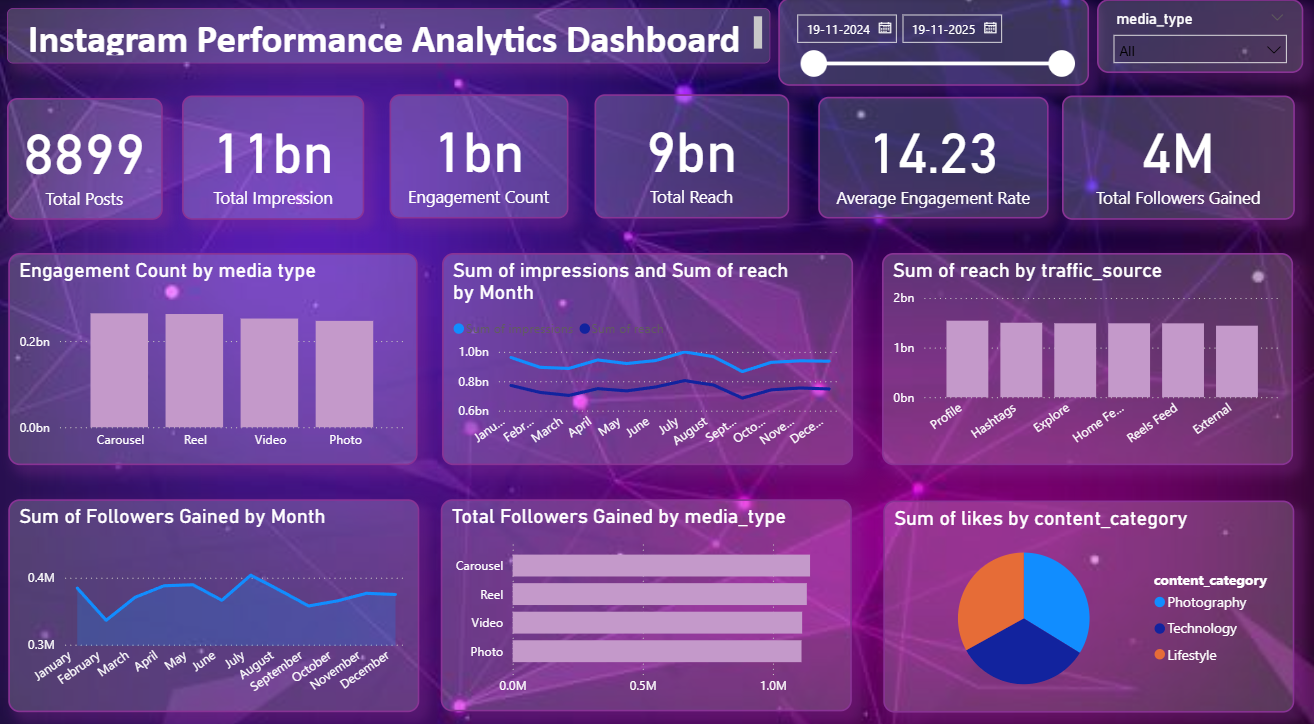

This screenshot's page, from the dashboard's own definition file:
{"tool":"powerbi","page":{"name":"Dashboard","canvas":[1280,720],"ordinal":0},"visuals":[{"type":"textbox","box":[9.6,9.6,736.9,53.5],"z":0},{"type":"card","fields":{"Values":["Instagram_Analytics.Total Posts"]},"box":[9.5,96.4,150,117.9],"z":1000},{"type":"card","fields":{"Values":["Instagram_Analytics.Total Impression"]},"box":[178.6,94,176.2,120.2],"z":2000},{"type":"card","fields":{"Values":["Instagram_Analytics.Total Reach"]},"box":[576.2,92.9,188.1,120.2],"z":3000},{"type":"card","fields":{"Values":["Instagram_Analytics.Engagement Count"]},"box":[378.6,92.9,172.6,120.2],"z":4000},{"type":"card","fields":{"Values":["Instagram_Analytics.Average Engagement Rate"]},"box":[792.9,95.2,222.6,117.9],"z":5000},{"type":"card","fields":{"Values":["Instagram_Analytics.Total Followers Gained"]},"box":[1027.4,94,225,120.2],"z":6000},{"type":"clusteredColumnChart","title":"Engagement Count by media type","fields":{"Category":["Instagram_Analytics.media_type"],"Y":["Instagram_Analytics.Engagement Count"]},"box":[10.7,246.4,395.2,204.8],"z":7000},{"type":"lineChart","fields":{"Category":["Instagram_Analytics.upload_date.Variation.Date Hierarchy.Month"],"Y":["Sum(Instagram_Analytics.impressions)","Sum(Instagram_Analytics.reach)"]},"box":[429.8,246.4,396.4,204.8],"z":8000},{"type":"columnChart","fields":{"Category":["Instagram_Analytics.traffic_source"],"Y":["Sum(Instagram_Analytics.reach)"]},"box":[854.8,246.4,396.4,204.8],"z":9000},{"type":"areaChart","fields":{"Category":["Instagram_Analytics.upload_date.Variation.Date Hierarchy.Month"],"Y":["Sum(Instagram_Analytics.Followers Gained)"]},"box":[10.7,483.3,396.4,206],"z":10000},{"type":"barChart","fields":{"Category":["Instagram_Analytics.media_type"],"Y":["Instagram_Analytics.Total Followers Gained"]},"box":[428.6,483.3,396.4,204.8],"z":11000},{"type":"pieChart","fields":{"Category":["Instagram_Analytics.content_category"],"Y":["Sum(Instagram_Analytics.likes)"]},"box":[856,484.5,396.4,204.8],"z":12000},{"type":"slicer","fields":{"Values":["Instagram_Analytics.upload_date"]},"box":[753.6,0,300,84.5],"z":14000},{"type":"slicer","fields":{"Values":["Instagram_Analytics.media_type"]},"box":[1061.9,1.2,198.8,71.4],"z":15000}]}

Visuals, with their boxes in screenshot pixels (x1, y1, x2, y2), scaled from the page's 1280x720 canvas onto the 1314x724 screenshot:
textbox: [10,10,766,63]
card - Instagram_Analytics.Total Posts: [10,97,164,215]
card - Instagram_Analytics.Total Impression: [183,95,364,215]
card - Instagram_Analytics.Total Reach: [592,93,785,214]
card - Instagram_Analytics.Engagement Count: [389,93,566,214]
card - Instagram_Analytics.Average Engagement Rate: [814,96,1042,214]
card - Instagram_Analytics.Total Followers Gained: [1055,95,1286,215]
"Engagement Count by media type" clusteredColumnChart: [11,248,417,454]
lineChart - Instagram_Analytics.upload_date.Variation.Date Hierarchy.Month x Sum(Instagram_Analytics.impressions): [441,248,848,454]
columnChart - Instagram_Analytics.traffic_source x Sum(Instagram_Analytics.reach): [878,248,1284,454]
areaChart - Instagram_Analytics.upload_date.Variation.Date Hierarchy.Month x Sum(Instagram_Analytics.Followers Gained): [11,486,418,693]
barChart - Instagram_Analytics.media_type x Instagram_Analytics.Total Followers Gained: [440,486,847,692]
pieChart - Instagram_Analytics.content_category x Sum(Instagram_Analytics.likes): [879,487,1286,693]
slicer - Instagram_Analytics.upload_date: [774,0,1082,85]
slicer - Instagram_Analytics.media_type: [1090,1,1294,73]
